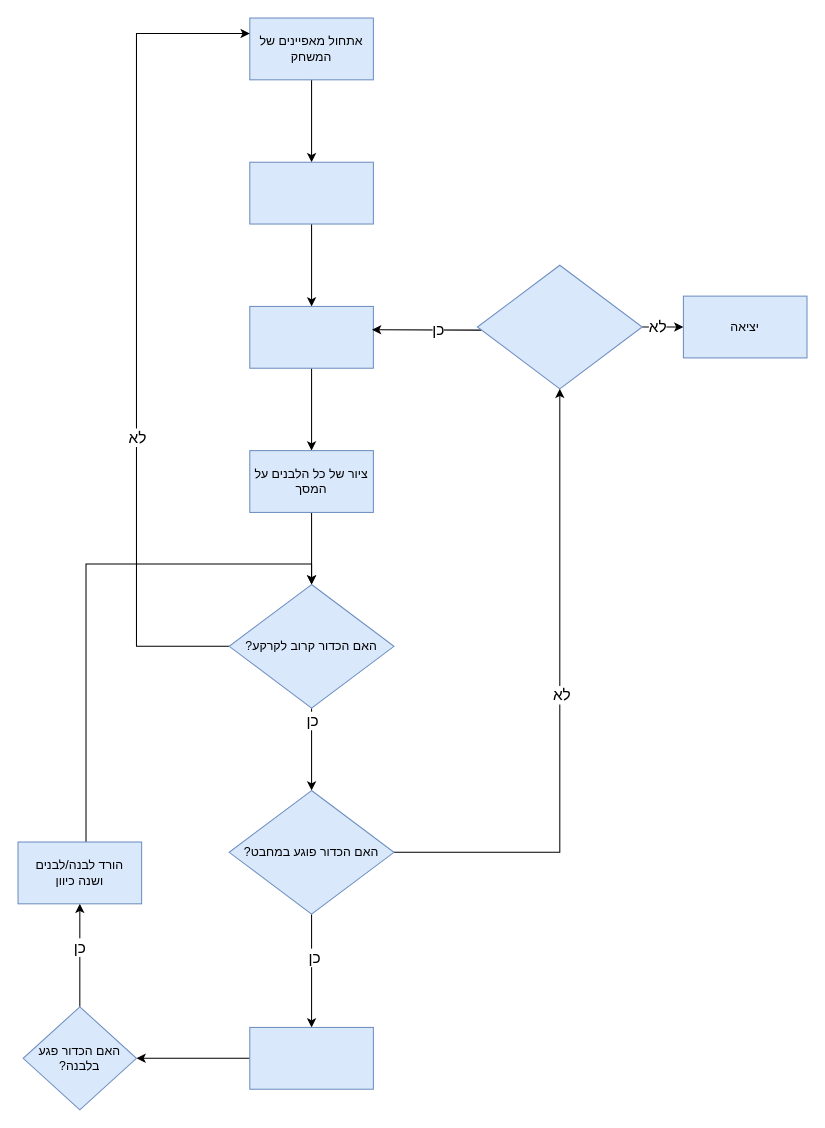
Image size: 825x1128. Some labels were removed from this diagram. Each missing label, with the centre of its shape:
"?האם כמות הפסילות קטנה מ-3" goes at pixel 559 326.
"אתחול של כל תכונות הלבנים" goes at pixel 311 192.
"מקם את הכדור מחדש והתחיל" goes at pixel 311 336.
"שינוי כיוון הכדור" goes at pixel 311 1057.
